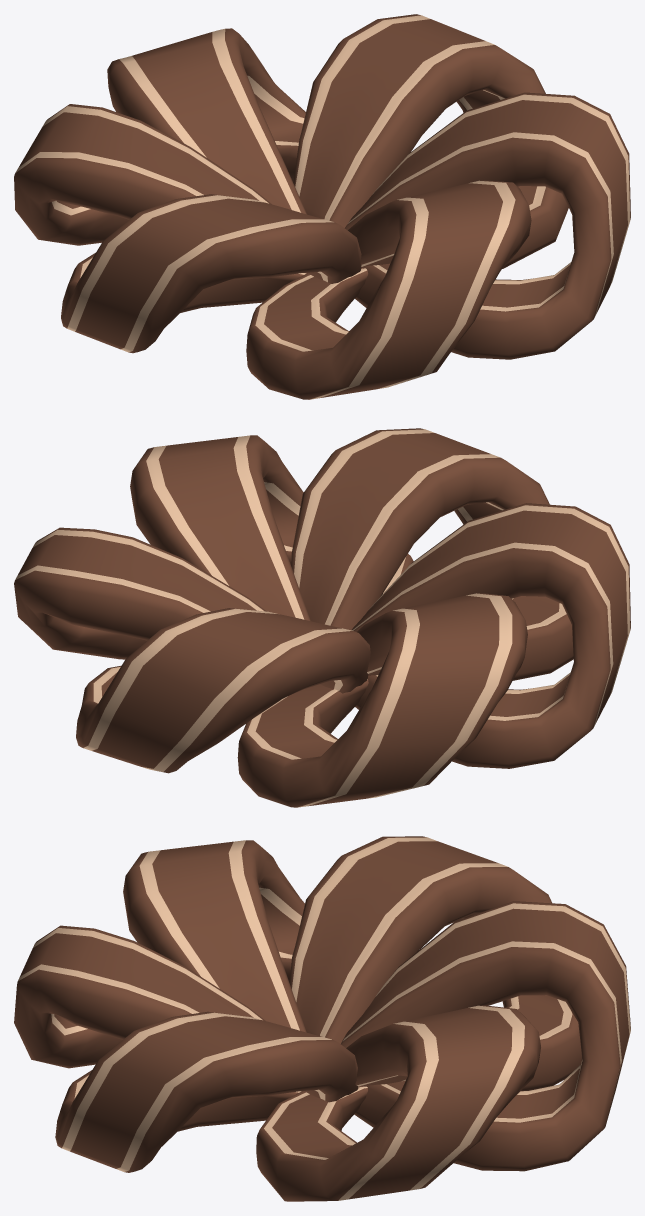
Rendered from ribon2.glb.
3 views of the same model, one above another, from view 1: azimuth 30°, elevation 25°; view 2: azimuth 150°, elevation 25°; view 3: azimuth 270°, elevation 25° (orthographic).
Visible parts, largest first — view 1: Ribbon.003; view 2: Ribbon.003; view 3: Ribbon.003.
Part boxes in pixels (box(x1,y1,x2,y2)): Ribbon.003: box(14, 14, 630, 399); Ribbon.003: box(14, 428, 630, 807); Ribbon.003: box(14, 836, 630, 1201).
Bounding box in the file's own units: 1.9 × 0.5409 × 1.9.
